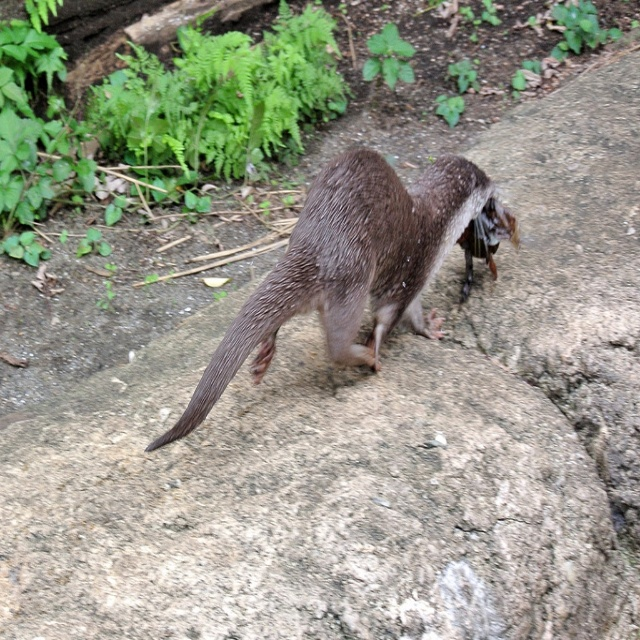Otter: (145, 145, 494, 451)
